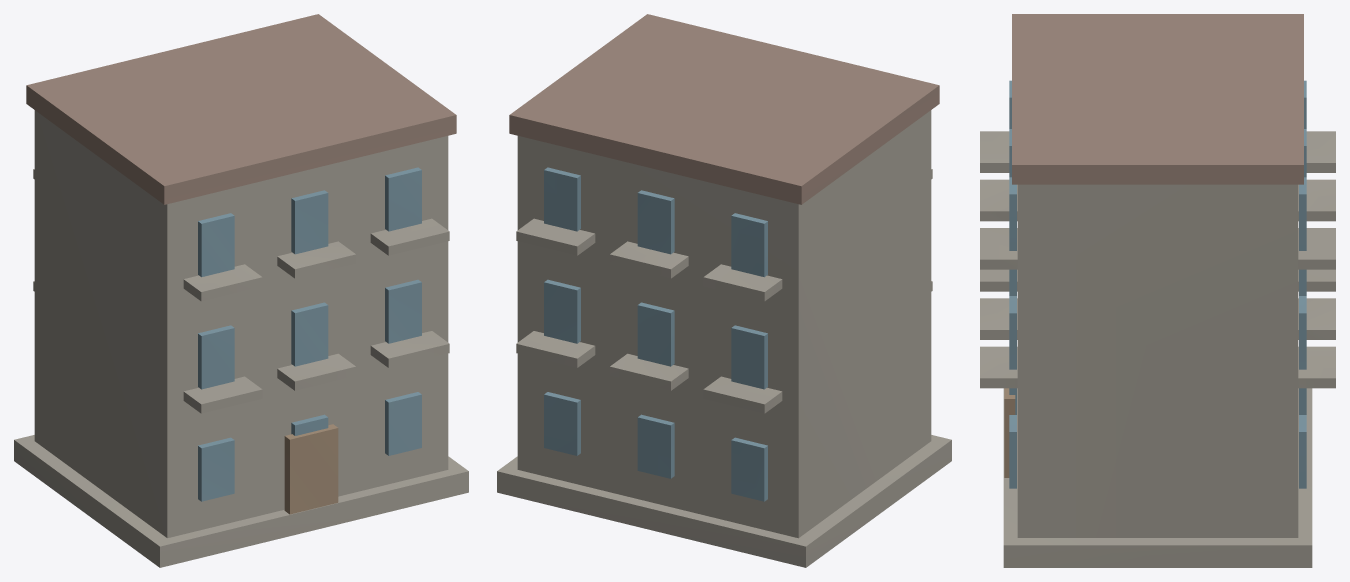
Rendered from apartment-00.glb.
3 renders of one model, left to right at view 1: azimuth 30°, elevation 25°; view 2: azimuth 150°, elevation 25°; view 3: azimuth 270°, elevation 25°, orthographic. The views are drawn at different scales.
Parts seen in each view (by area): view 1: world; view 2: world; view 3: world.
Boxes of the visible parts, left/top/right/bottom form: world: left=14, top=14, right=468, bottom=567; world: left=497, top=14, right=951, bottom=567; world: left=980, top=14, right=1335, bottom=567.
Size of the model in its own units: 1.21 by 1.41 by 1.14.
